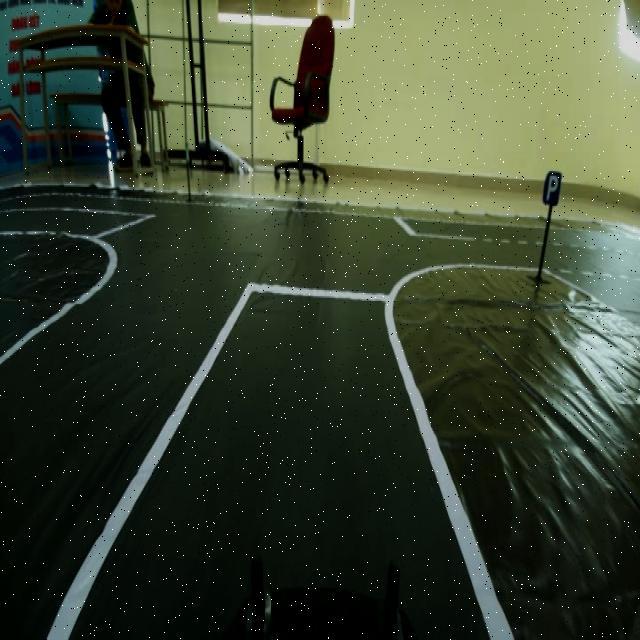parking: (538, 168, 565, 211)
